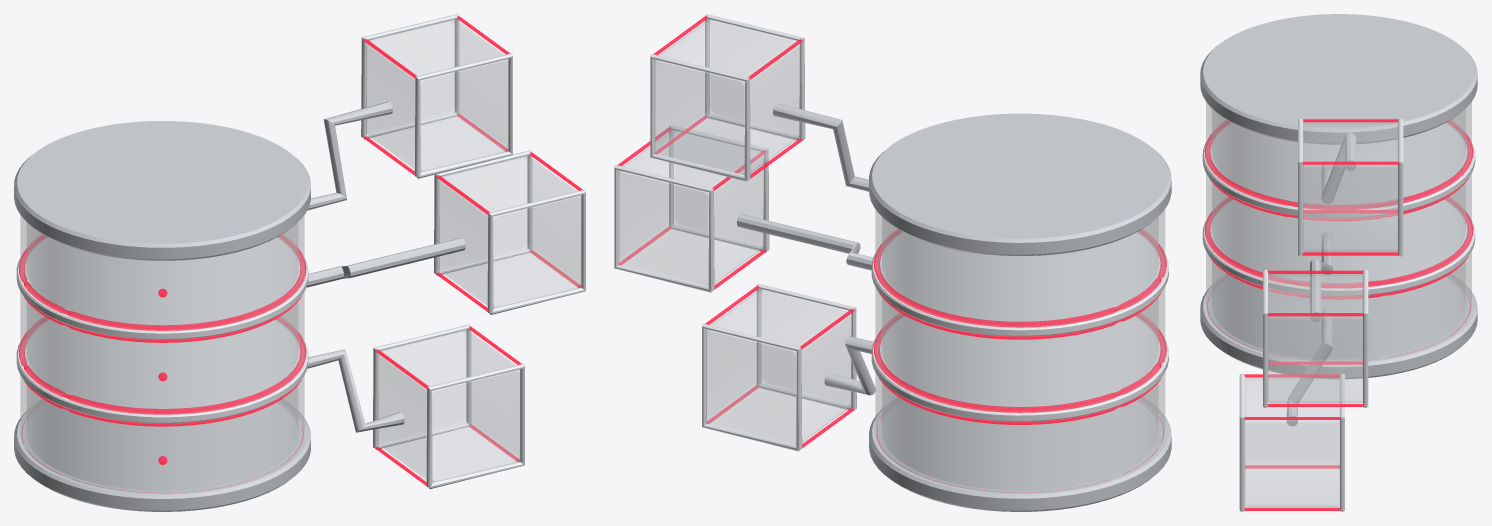
The model's file is 02-data-architecture.glb.
3 views of the same model, side by side, from view 1: azimuth 30°, elevation 25°; view 2: azimuth 150°, elevation 25°; view 3: azimuth 270°, elevation 25° (orthographic). The views are drawn at different scales.
Parts seen in each view (by area): view 1: BC clear optical glass, BC satin silver metal, BC polished silver metal, BC neon red glass edge; view 2: BC clear optical glass, BC satin silver metal, BC polished silver metal, BC neon red glass edge; view 3: BC clear optical glass, BC satin silver metal, BC polished silver metal, BC neon red glass edge.
Part boxes in pixels (bbox=[...]): BC clear optical glass: bbox=[20, 19, 581, 493]; BC satin silver metal: bbox=[14, 101, 465, 511]; BC polished silver metal: bbox=[16, 14, 585, 488]; BC neon red glass edge: bbox=[18, 15, 582, 493]; BC clear optical glass: bbox=[619, 19, 1165, 492]; BC satin silver metal: bbox=[737, 103, 1171, 511]; BC polished silver metal: bbox=[614, 14, 1168, 451]; BC neon red glass edge: bbox=[617, 15, 1166, 492]; BC clear optical glass: bbox=[1206, 102, 1471, 507]; BC satin silver metal: bbox=[1200, 14, 1477, 426]; BC polished silver metal: bbox=[1202, 118, 1475, 511]; BC neon red glass edge: bbox=[1204, 119, 1473, 510].
Bounding box in the file's own units: 2.37 × 1.7 × 1.19.
